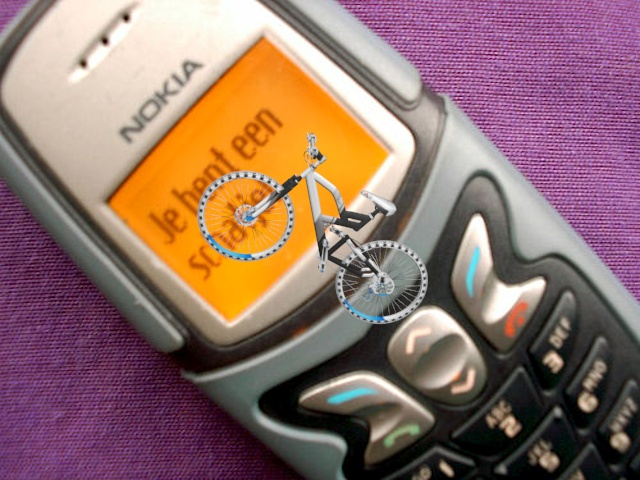bike: (193, 129, 432, 336)
